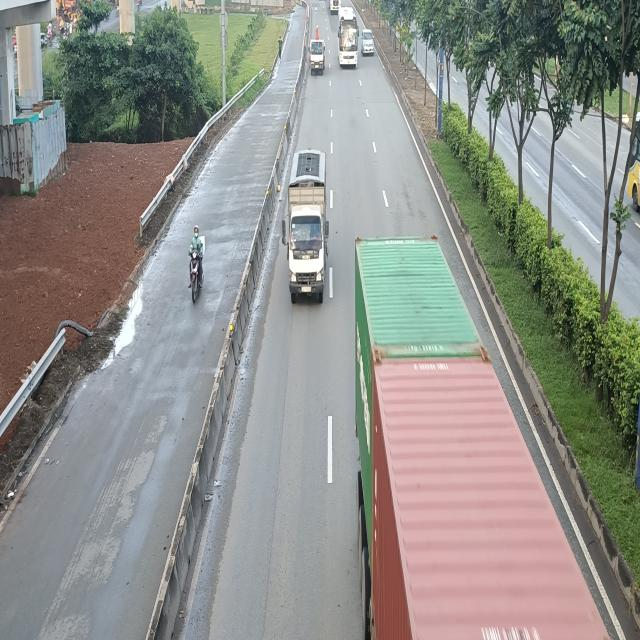car: (360, 28, 376, 56)
container: (349, 233, 631, 636), (338, 4, 359, 69)
truck: (282, 147, 330, 300), (310, 39, 326, 76)
